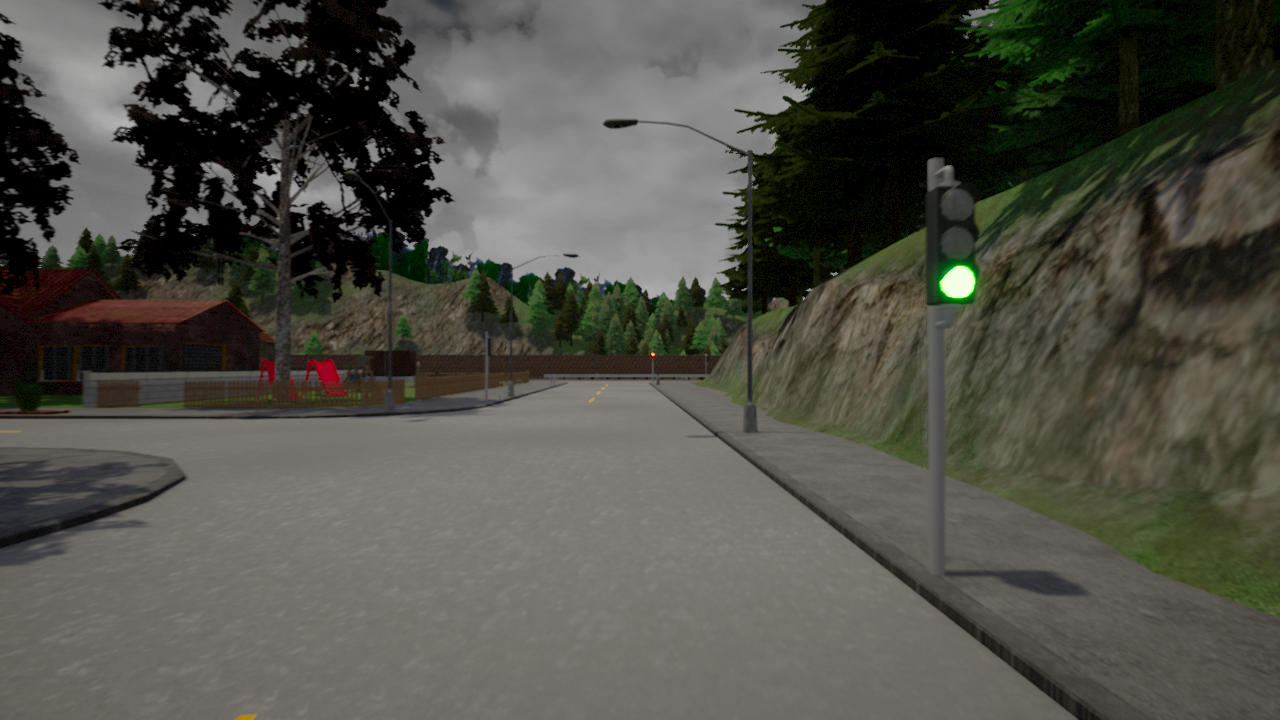green: (925, 184, 977, 307)
